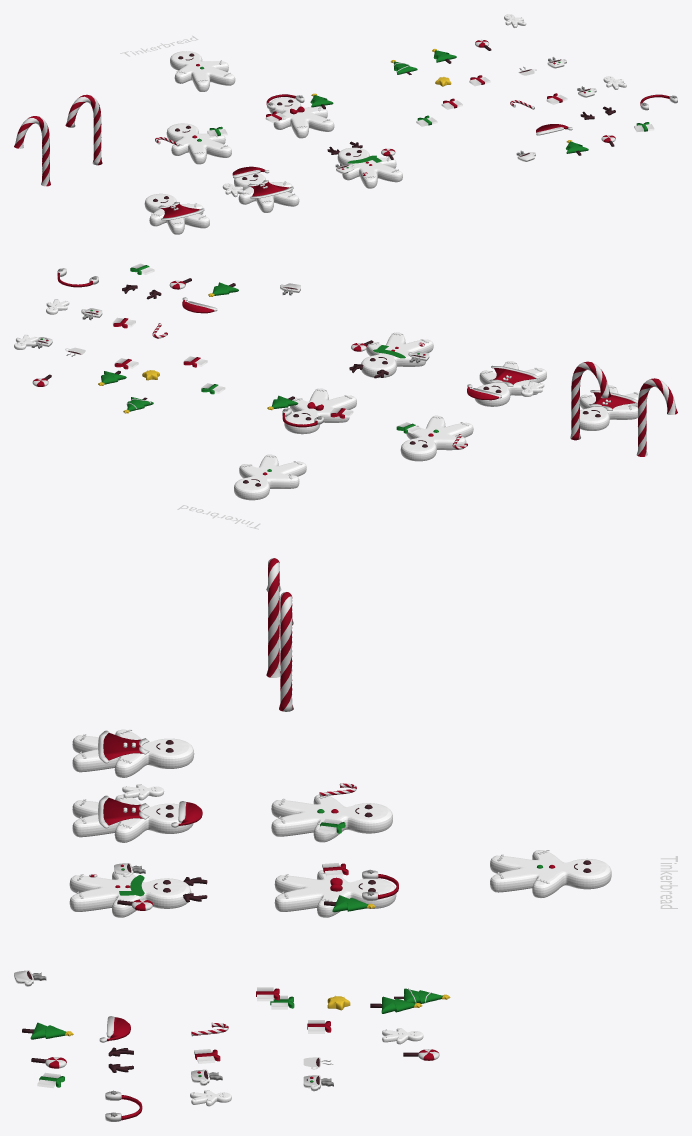
The model's file is gingerbread3.glb.
3 views of the same model, one above another, from view 1: azimuth 30°, elevation 25°; view 2: azimuth 150°, elevation 25°; view 3: azimuth 270°, elevation 25° (orthographic). The views are drawn at different scales.
Visible parts, largest first — view 1: Circle, Circle.002, Circle.003, Circle.009, Circle.048, Circle.007, Circle.001, Circle.004; view 2: Circle, Circle.002, Circle.009, Circle.003, Circle.048, Circle.007, Circle.001, Circle.004; view 3: Circle, Circle.002, Circle.009, Circle.003, Circle.048, Circle.007, Circle.001, Circle.004.
Boxes of the visible parts, x1,y1,x2,y2 form: Circle: (170,51,235,91); Circle.002: (166,123,231,164); Circle.003: (269,97,334,138); Circle.009: (337,147,402,188); Circle.048: (144,193,209,234); Circle.007: (234,173,299,212); Circle.001: (65,94,102,165); Circle.004: (14,116,50,186); Circle: (234,454,306,500); Circle.002: (400,415,473,461); Circle.009: (361,332,433,377); Circle.003: (284,388,356,434); Circle.048: (580,385,638,430); Circle.007: (474,361,546,406); Circle.001: (570,361,611,440); Circle.004: (636,378,677,456); Circle: (490,850,611,897); Circle.002: (271,794,392,842); Circle.009: (69,871,191,917); Circle.003: (274,870,396,917); Circle.048: (72,729,194,777); Circle.007: (72,794,193,842); Circle.001: (279,592,293,711); Circle.004: (266,558,281,677).
Size of the model in its own units: 40.93 by 7.01 by 25.9.
